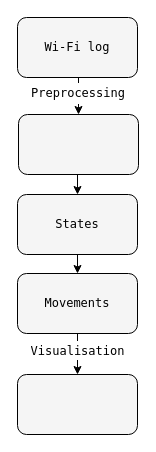
This 156x452 diagram has some shape labels left out. The shapes that lost their labels are listed below. From the top down, each one's centre as x and y in pixels, then its label:
point (78, 144): Sessions
point (77, 404): Movement Patterns
